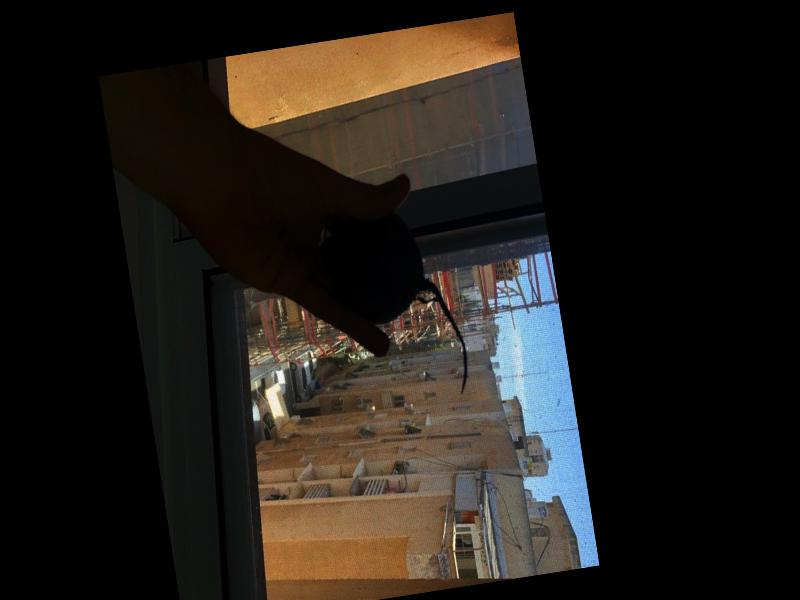Beet: (317, 206, 474, 412)
